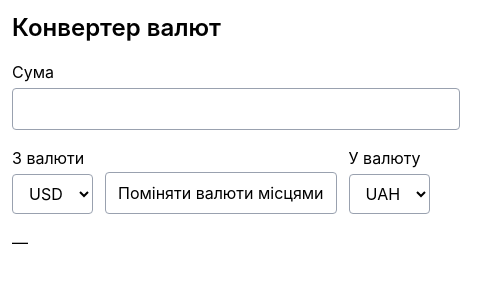
Converter rate states › stays on the selected pair when replies arrive out of order
Select "EUR" in the dropdown labelled "З валюти" at (52, 194), box [12, 174, 93, 214]
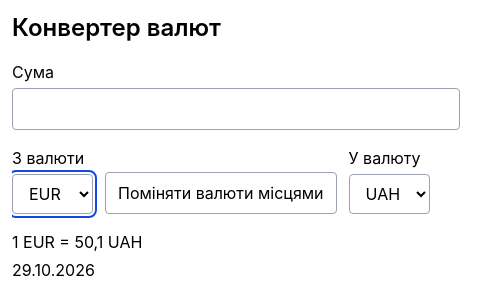
Result: the text "1 EUR = 50,1 UAH" is shown at [12, 232, 142, 252]
